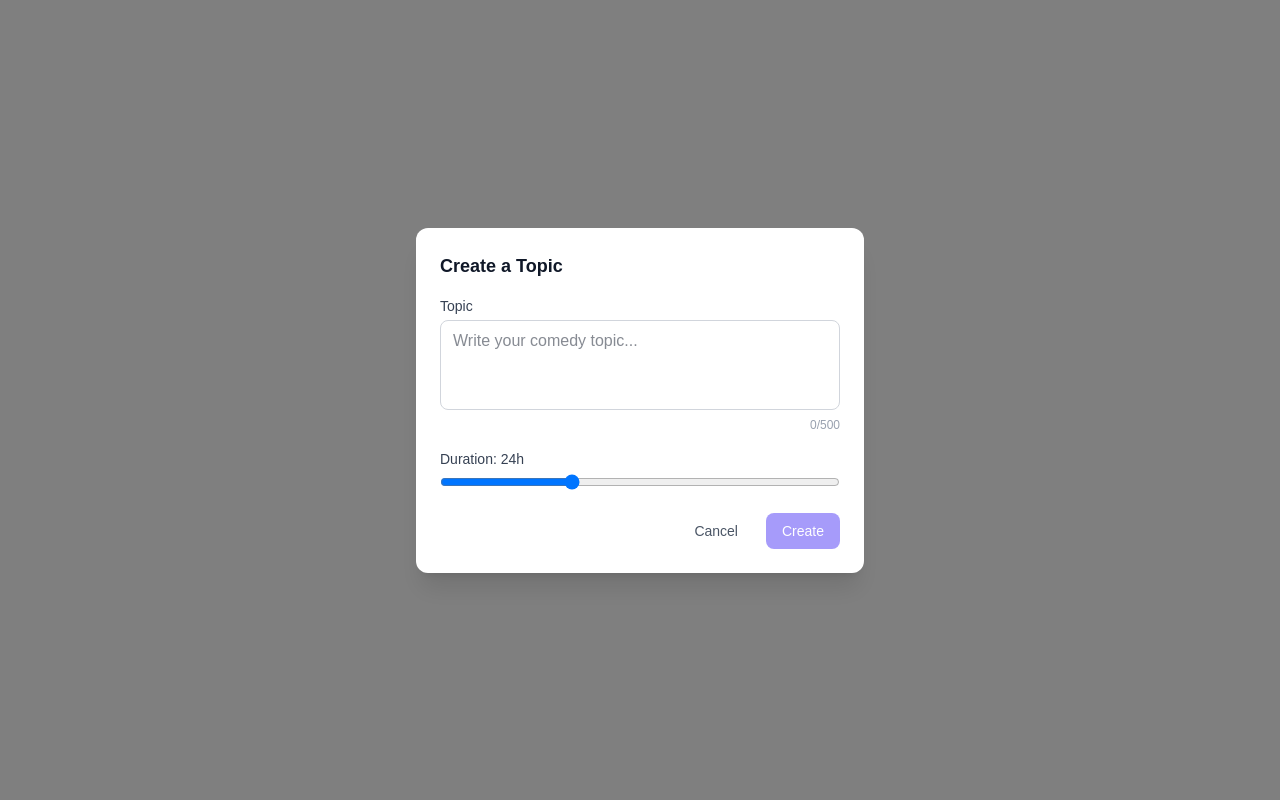
CreateTopicModal › shows error on failure
In the text box with placeholder "Write your comedy topic...": (640, 364) [440,320,840,410], type "My prompt"
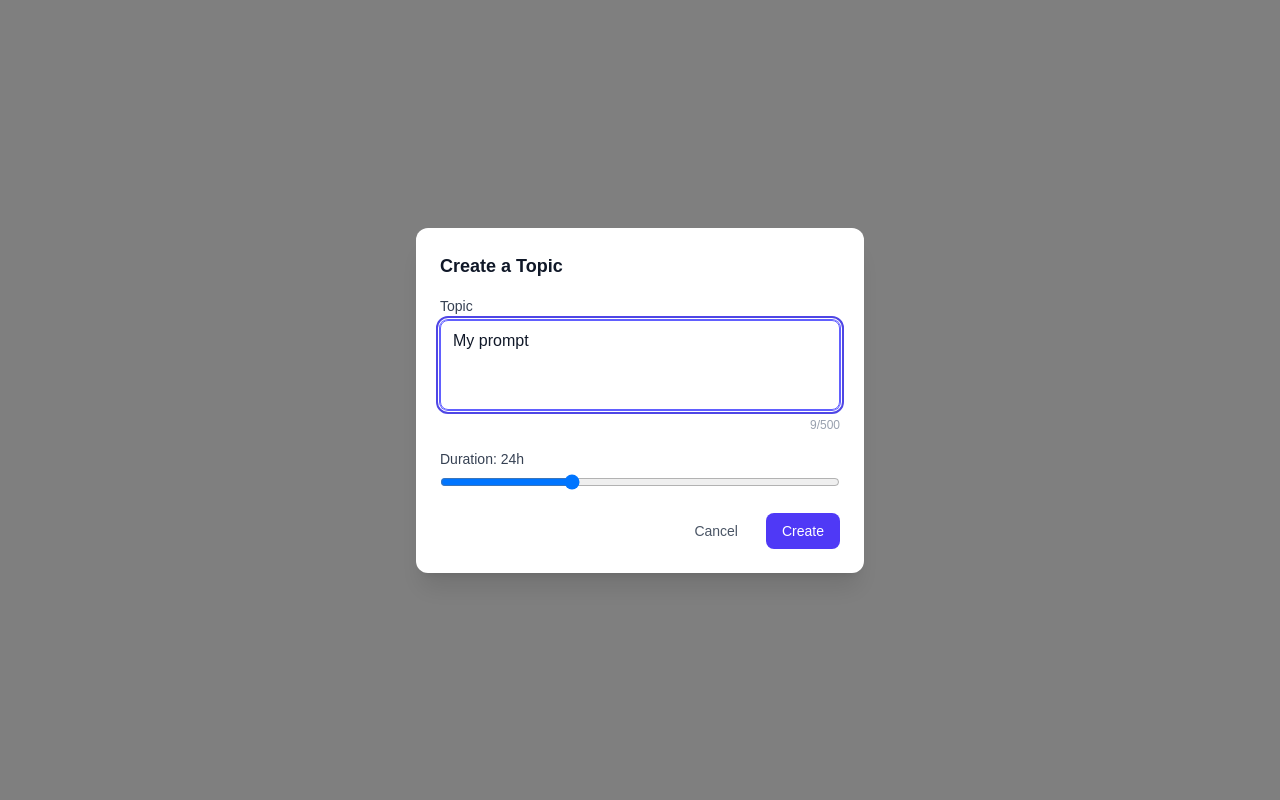
Click the button "Create": (803, 530) [766,512,840,548]
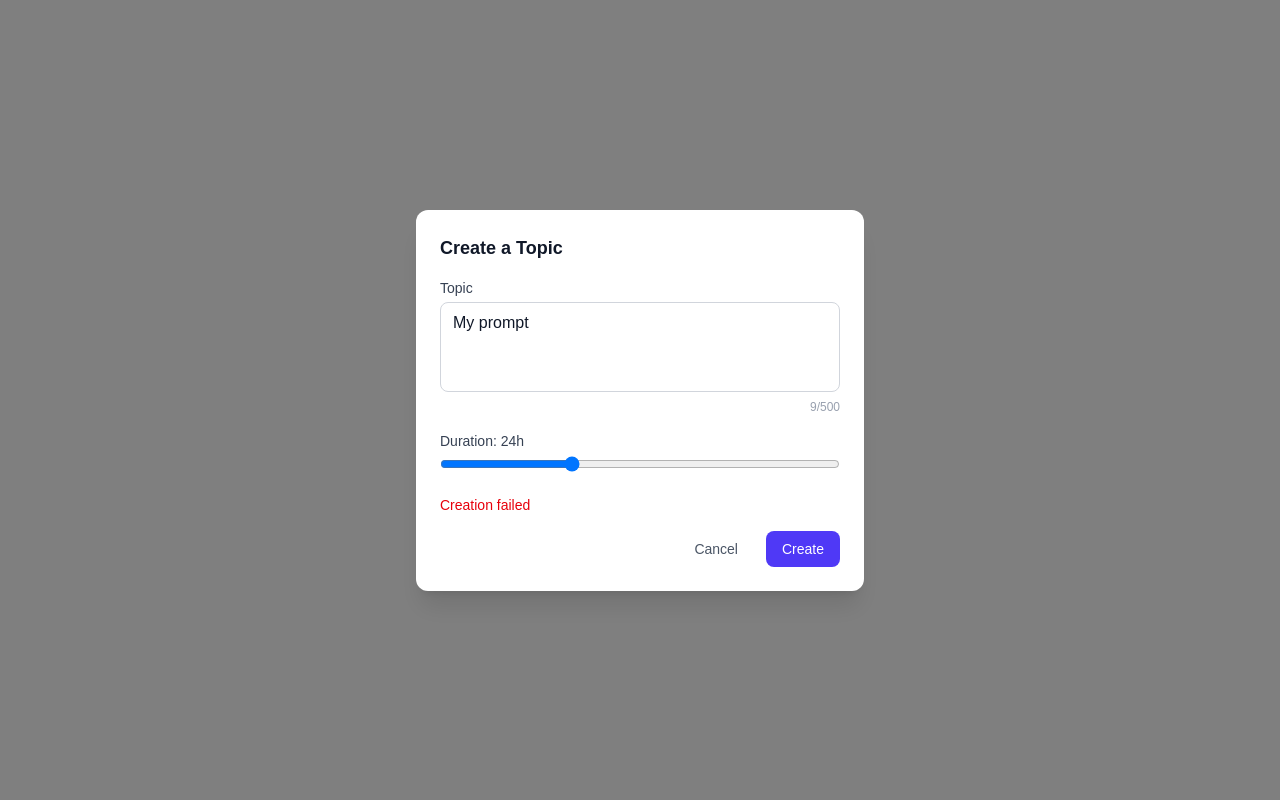
Check: the text "Creation failed" is shown, box [440,496,530,512]
